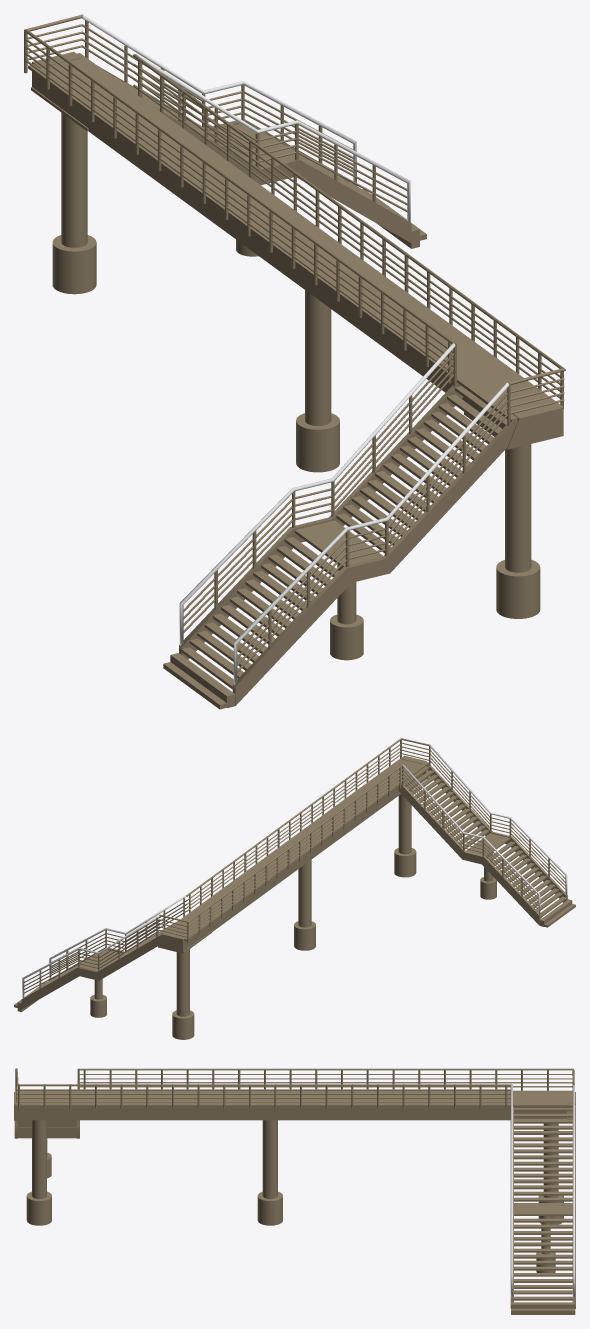
File: footbridge.fbx
3 views of the same model, one above another, from view 1: azimuth 30°, elevation 25°; view 2: azimuth 150°, elevation 25°; view 3: azimuth 270°, elevation 25° (orthographic). The views are drawn at different scales.
Parts seen in each view (by area): view 1: land_1_2, land_2_3, Sweep_1_8, Sweep_1_9, Sweep_1_7, Cylinder, Cylinder_8, Cylinder_1, Sweep, Sweep_1, Cylinder_9, Cylinder_4 (+26 smaller); view 2: land_1_2, land_2_3, Sweep_1_9, Sweep_1_6, Sweep_1_8, Cylinder_8, Cylinder, Cylinder_1, Sweep, Sweep_1, Cylinder_4, Cylinder_9 (+15 smaller); view 3: land_1_2, land_2_2, Sweep, Sweep_1, Cylinder, Cylinder_1, Sweep_2_2, Sweep_2_3, Sweep_1_3, Sweep_3, Sweep_1_2, Sweep_2 (+10 smaller).
Boxes of the visible parts, x1,y1,x2,y2 form: land_1_2: (28,53,563,422); land_2_3: (34,73,504,428); Sweep_1_8: (232,419,517,705); Sweep_1_9: (179,382,463,659); Sweep_1_7: (151,105,411,243); Cylinder: (305,290,331,425); Cylinder_8: (61,112,87,247); Cylinder_1: (505,444,531,572); Sweep: (24,14,455,343); Sweep_1: (133,54,565,384); Cylinder_9: (52,235,96,294); Cylinder_4: (496,559,540,618); land_1_2: (161,756,428,940); land_2_3: (184,773,422,950); Sweep_1_9: (398,784,541,925); Sweep_1_6: (21,934,161,1008); Sweep_1_8: (427,764,567,902); Cylinder_8: (176,949,189,1016); Cylinder: (298,859,311,927); Cylinder_1: (398,790,411,854); Sweep: (159,764,403,922); Sweep_1: (187,738,429,896); Cylinder_4: (394,848,416,877); Cylinder_9: (172,1010,194,1039); land_1_2: (15,1090,572,1106); land_2_2: (23,1106,572,1120); Sweep: (78,1068,574,1084); Sweep_1: (15,1068,512,1086); Cylinder: (262,1120,277,1198); Cylinder_1: (32,1120,46,1198); Sweep_2_2: (17,1089,510,1090); Sweep_2_3: (79,1082,572,1083); Sweep_1_3: (79,1078,572,1079); Sweep_3: (17,1101,510,1102); Sweep_1_2: (17,1093,510,1094); Sweep_2: (17,1097,510,1098).
Bounding box in the file's own units: 1903 × 745 × 2519.
